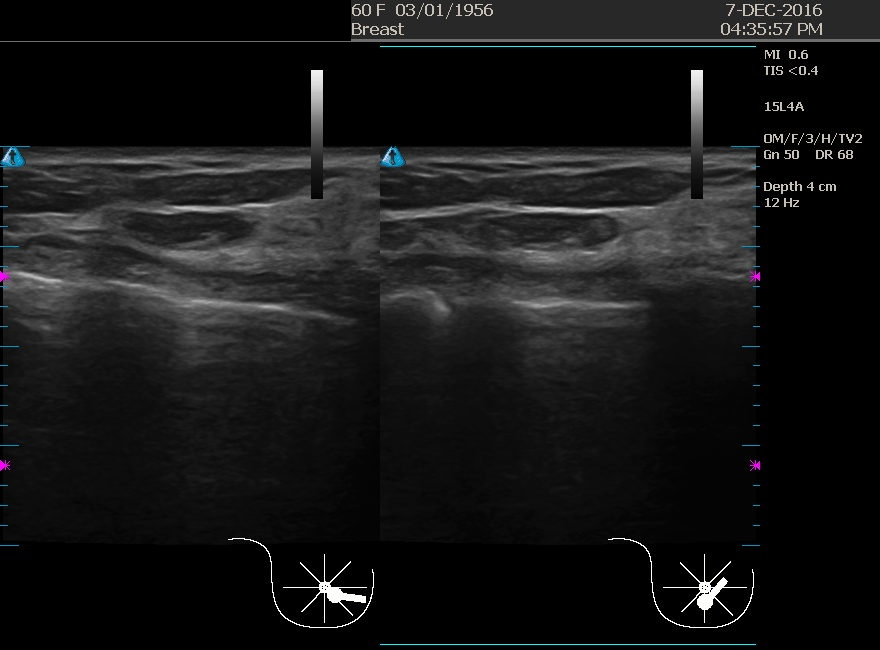Benign: (90, 156, 290, 356), (445, 170, 645, 370)
